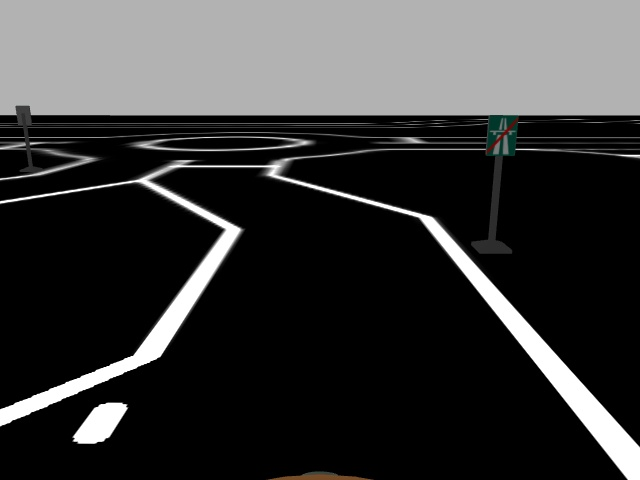leave_highway: (483, 114, 520, 159)
